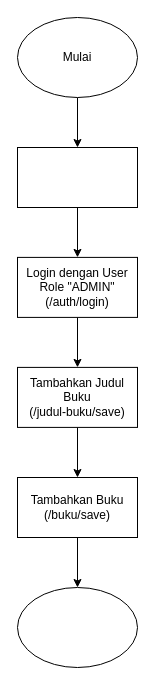
The diagram is 155 pixels wide and 685 high, and some of its shapes have lost their labels. The shapes that lost their labels are listed below. From the top down, each one's centre as x and y in pixels, then its label:
[77,177]: Buat User dengan Role "ADMIN" (/user/save)
[77,627]: Selesai
